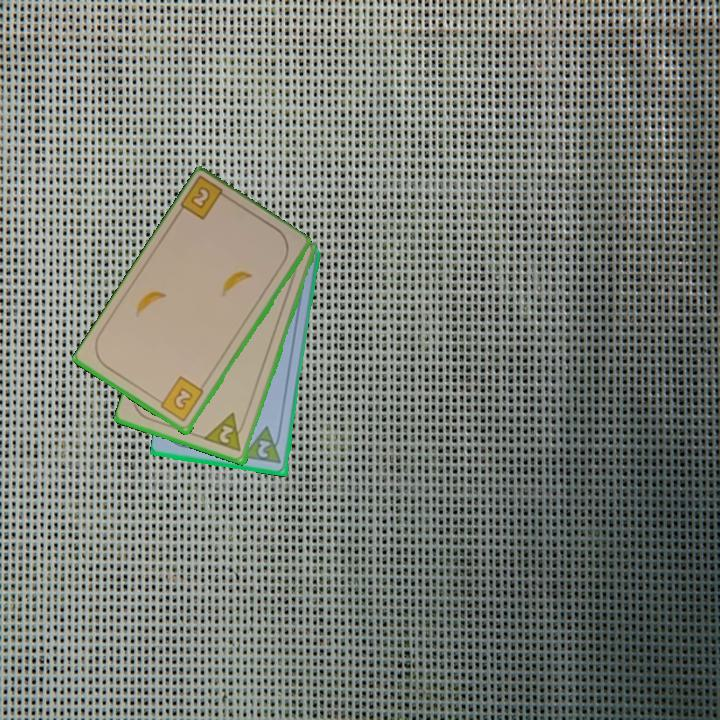2b: (153, 373, 207, 425), (177, 175, 234, 223)
2p: (202, 410, 250, 455), (241, 424, 285, 467)
